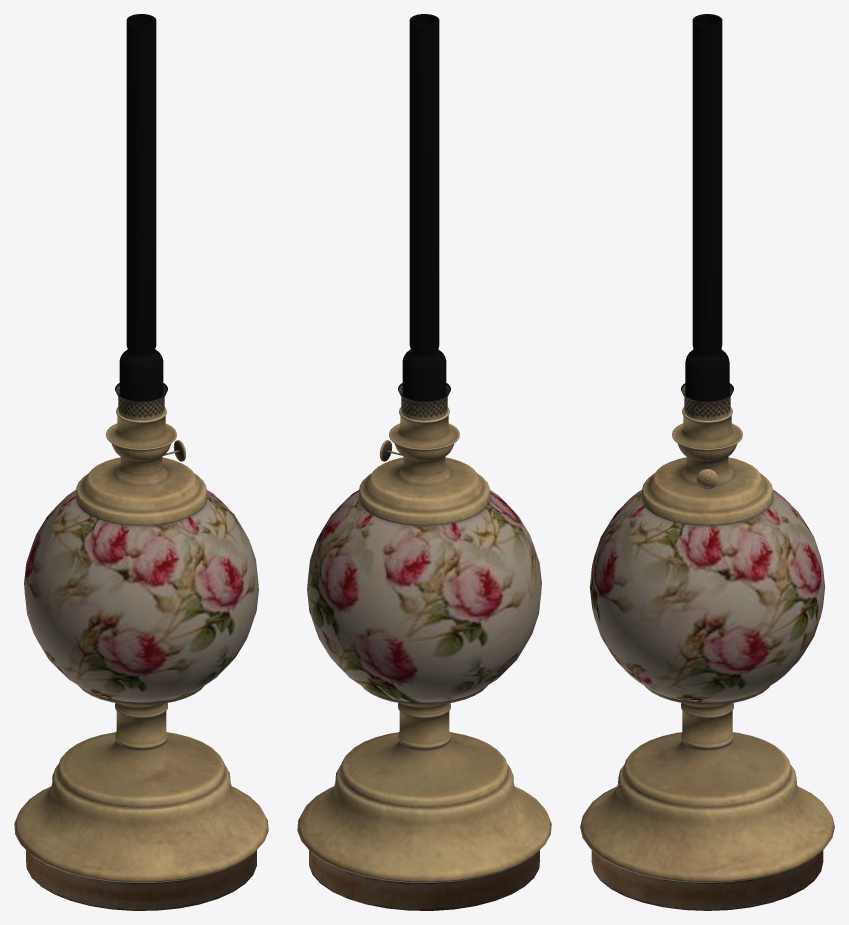
Rendered from lamp-oil-vintage.1e4a07b6.glb.
3 renders of one model, left to right at view 1: azimuth 30°, elevation 25°; view 2: azimuth 150°, elevation 25°; view 3: azimuth 270°, elevation 25°, orthographic.
Parts seen in each view (by area): view 1: model; view 2: model; view 3: model.
Boxes of the visible parts, x1=… form: model: x1=14, y1=14, x2=268, y2=910; model: x1=297, y1=14, x2=551, y2=910; model: x1=580, y1=14, x2=834, y2=910.
Bounding box in the file's own units: 0.22 × 0.8016 × 0.22.
Materials: 3 (3 with a texture image).
